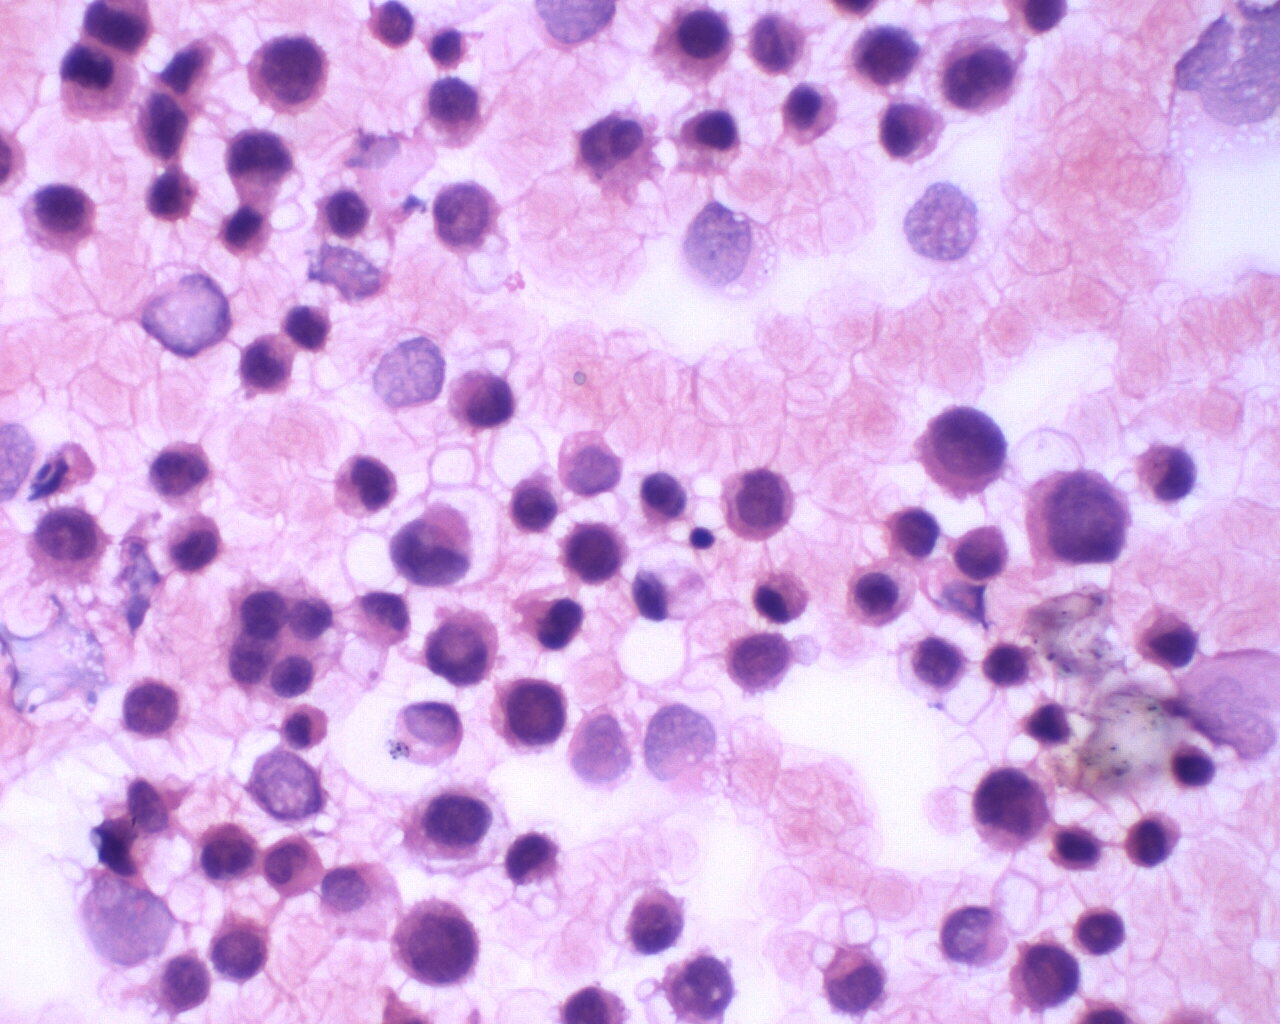ab: (1024, 469, 1144, 576), (385, 893, 488, 992), (910, 402, 1010, 498), (972, 761, 1055, 856), (393, 784, 491, 864), (243, 31, 333, 119), (423, 601, 503, 690), (1004, 931, 1087, 1016), (489, 673, 573, 755), (27, 503, 108, 588), (16, 182, 101, 257), (720, 466, 798, 548), (218, 121, 299, 193), (554, 514, 629, 588), (119, 675, 190, 751), (722, 627, 798, 696), (443, 365, 520, 433), (1134, 608, 1205, 677), (625, 882, 689, 958), (208, 913, 275, 983), (1063, 900, 1128, 961)
meso: (652, 3, 740, 86), (846, 555, 921, 632), (750, 566, 813, 630)
